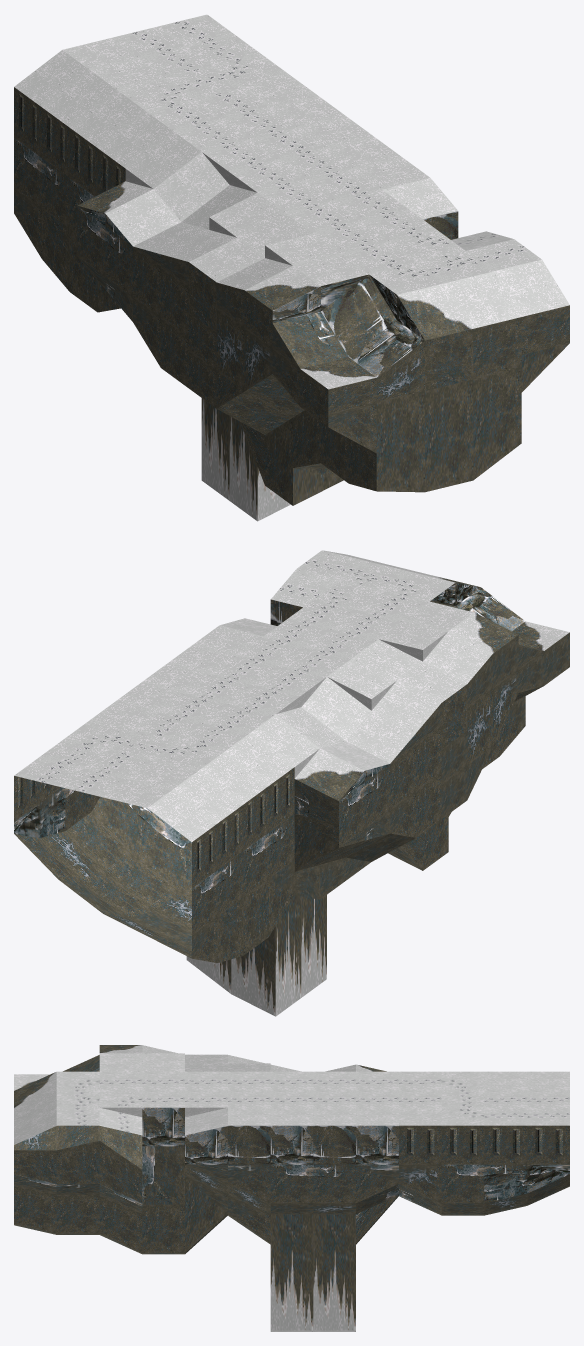
File: room06.obj
The picture shows the model from 3 angles, top to bottom: view 1: azimuth 30°, elevation 25°; view 2: azimuth 150°, elevation 25°; view 3: azimuth 270°, elevation 25°; orthographic projection. The views are drawn at different scales.
Visible parts, largest first — view 1: 01-Caves.006; view 2: 01-Caves.006; view 3: 01-Caves.006.
Boxes of the visible parts, x1,y1,x2,y2 form: 01-Caves.006: (14, 14, 569, 521); 01-Caves.006: (14, 550, 569, 1016); 01-Caves.006: (14, 1045, 569, 1331).
Bounding box in the file's own units: 50 × 65 × 130.
1 material, 1 textured.
